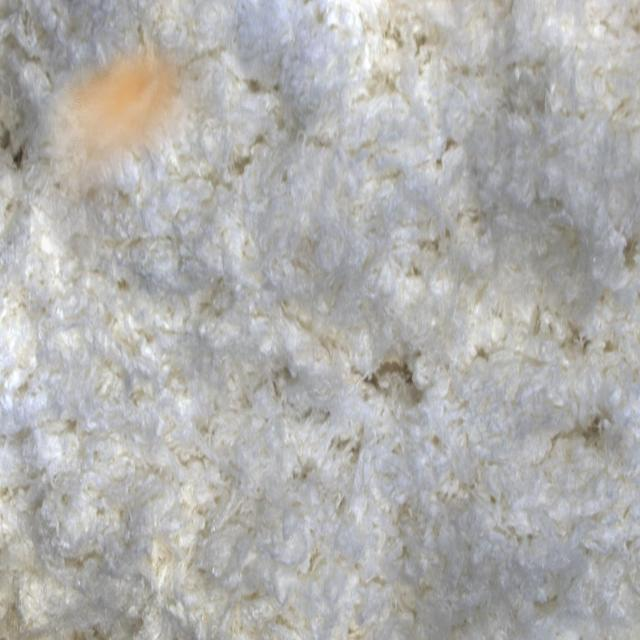dust: (31, 34, 220, 262)
